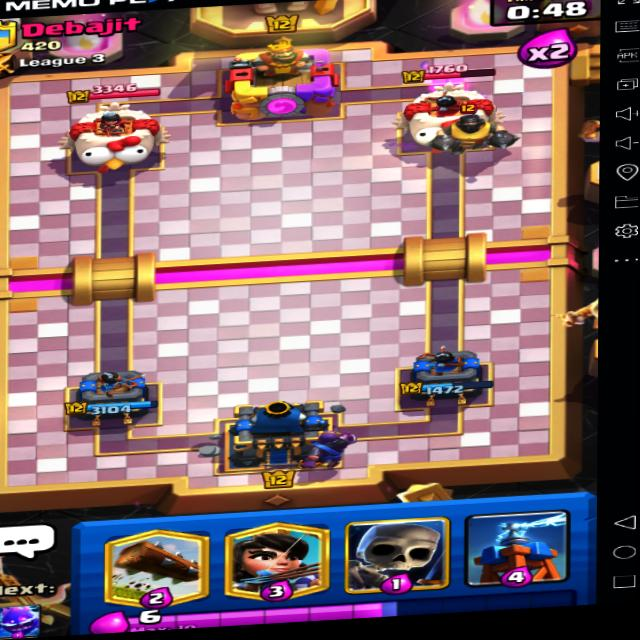mega-knight: (433, 104, 523, 159)
